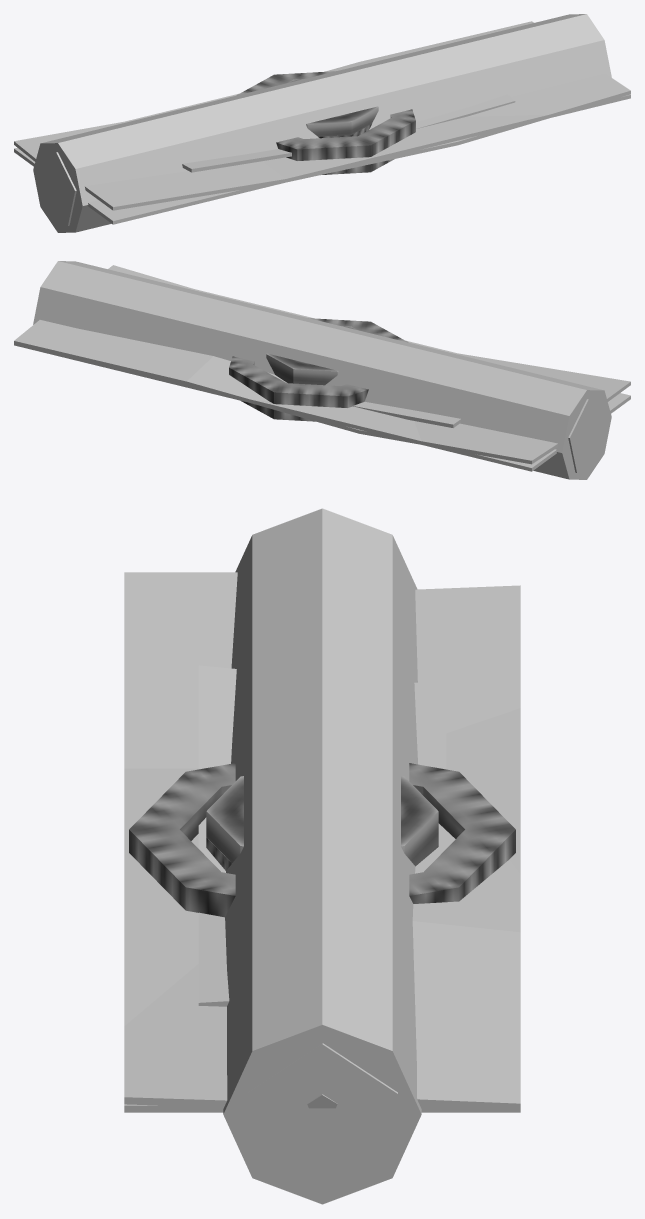
The model's file is LP_ScrapMetals.fbx.
3 renders of one model, top to bottom at view 1: azimuth 30°, elevation 25°; view 2: azimuth 150°, elevation 25°; view 3: azimuth 270°, elevation 25°, orthographic. The views are drawn at different scales.
Parts seen in each view (by area): view 1: Scrap_Metal_Pipe_Large_Long, Scrap_Metal_Sheet_Large_Bent, Scrap_Metal_Sheet_Large, Scrap_Metal_Cog_Large, Scrap_Metal_Sheet_Medium_Bent, Scrap_Metal_Pipe_Medium_Long, Scrap_Metal_Rim; view 2: Scrap_Metal_Pipe_Large_Long, Scrap_Metal_Sheet_Large_Bent, Scrap_Metal_Sheet_Large, Scrap_Metal_Cog_Large, Scrap_Metal_Pipe_Medium_Long, Scrap_Metal_Rim, Scrap_Metal_Sheet_Medium_Bent; view 3: Scrap_Metal_Pipe_Large_Long, Scrap_Metal_Sheet_Large_Bent, Scrap_Metal_Sheet_Large, Scrap_Metal_Cog_Large, Scrap_Metal_Pipe_Medium_Long, Scrap_Metal_Sheet_Medium_Bent, Scrap_Metal_Rim, Scrap_Metal_Pipe_Small_Long.
Part boxes in pixels (left/top/right/bottom): Scrap_Metal_Pipe_Large_Long: left=33, top=14, right=611, bottom=232; Scrap_Metal_Sheet_Large_Bent: left=14, top=21, right=630, bottom=210; Scrap_Metal_Sheet_Large: left=14, top=93, right=630, bottom=224; Scrap_Metal_Cog_Large: left=236, top=71, right=415, bottom=174; Scrap_Metal_Sheet_Medium_Bent: left=182, top=94, right=515, bottom=172; Scrap_Metal_Pipe_Medium_Long: left=37, top=152, right=76, bottom=225; Scrap_Metal_Rim: left=288, top=79, right=378, bottom=136; Scrap_Metal_Pipe_Large_Long: left=33, top=261, right=611, bottom=479; Scrap_Metal_Sheet_Large_Bent: left=14, top=265, right=630, bottom=464; Scrap_Metal_Sheet_Large: left=14, top=289, right=630, bottom=471; Scrap_Metal_Cog_Large: left=229, top=318, right=408, bottom=421; Scrap_Metal_Pipe_Medium_Long: left=568, top=399, right=607, bottom=472; Scrap_Metal_Rim: left=266, top=326, right=356, bottom=385; Scrap_Metal_Sheet_Medium_Bent: left=353, top=401, right=461, bottom=427; Scrap_Metal_Pipe_Large_Long: left=223, top=508, right=421, bottom=1204; Scrap_Metal_Sheet_Large_Bent: left=124, top=572, right=520, bottom=1110; Scrap_Metal_Sheet_Large: left=124, top=708, right=520, bottom=1112; Scrap_Metal_Cog_Large: left=129, top=763, right=515, bottom=917; Scrap_Metal_Pipe_Medium_Long: left=247, top=1043, right=397, bottom=1174; Scrap_Metal_Sheet_Medium_Bent: left=198, top=665, right=446, bottom=1006; Scrap_Metal_Rim: left=206, top=776, right=438, bottom=866; Scrap_Metal_Pipe_Small_Long: left=285, top=1091, right=360, bottom=1145.
Size of the model in its own units: 6.21 by 1 by 2.
